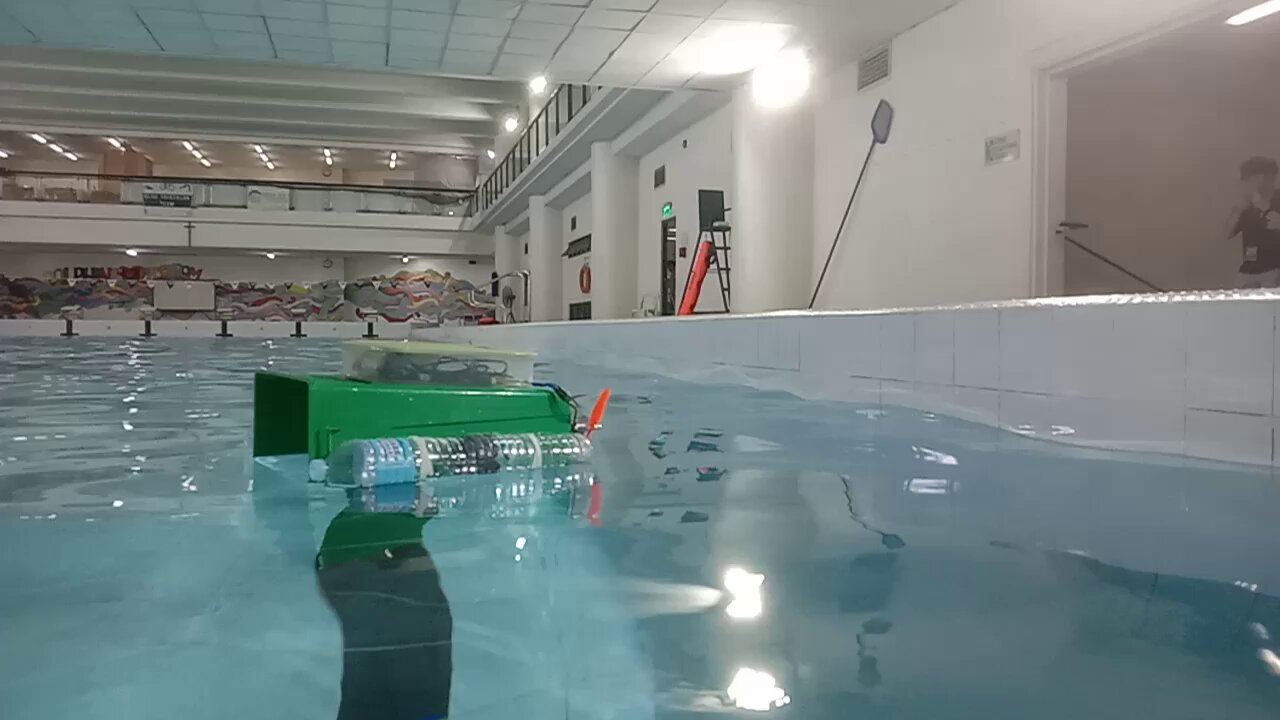drone: (253, 339, 612, 488)
